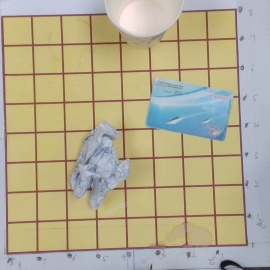card: (145, 75, 234, 143)
cup: (103, 1, 184, 47)
